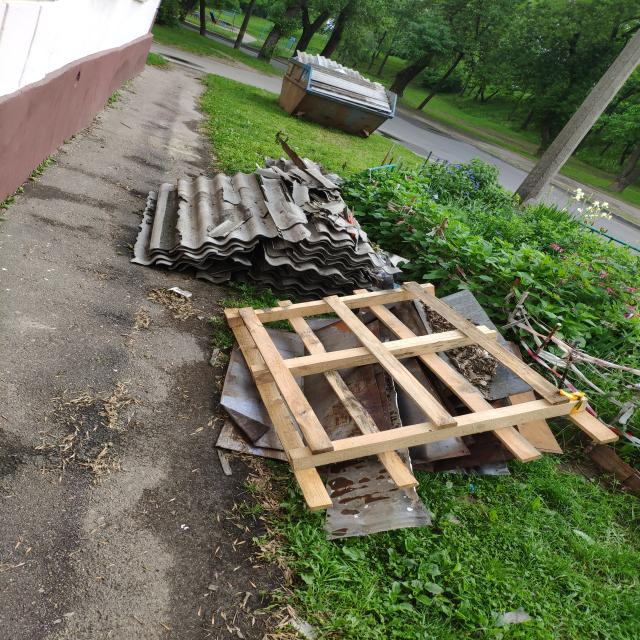entulho: (128, 179, 398, 303), (214, 313, 402, 485), (350, 290, 522, 461), (262, 152, 338, 196)
